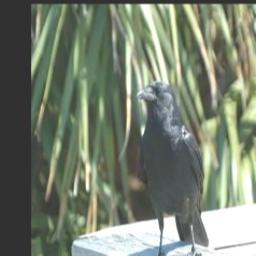Crow: (137, 80, 209, 256)
